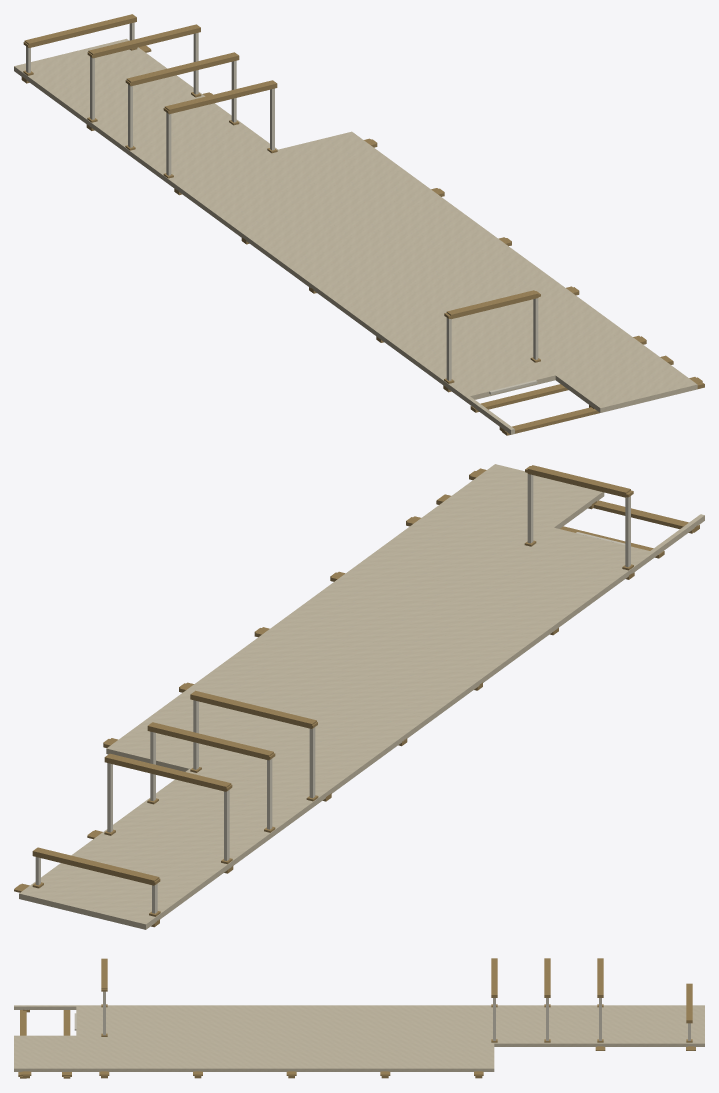
File: AST-TRM-G4-021_north_missing_only_receiving.glb
3 views of the same model, one above another, from view 1: azimuth 30°, elevation 25°; view 2: azimuth 150°, elevation 25°; view 3: azimuth 270°, elevation 25° (orthographic). The views are drawn at different scales.
Visible parts, largest first — view 1: N006_MissingOnlyFloor_1, N006_MissingOnlyFloor_0, N006_MissingOnlyFloor_3, N006_StairCrossbearer_2, N006_StairCrossbearer_0, N006_StairCrossbearer_1, N006_StairCrossbearer_3, N006_LiftLandingCrossbearer, N006_LiftPitUnderbearer_1, N006_LiftPitUnderbearer_0; view 2: N006_MissingOnlyFloor_1, N006_MissingOnlyFloor_0, N006_MissingOnlyFloor_3, N006_StairCrossbearer_0, N006_StairCrossbearer_1, N006_StairCrossbearer_2, N006_StairCrossbearer_3, N006_LiftLandingCrossbearer, N006_LiftPitUnderbearer_1; view 3: N006_MissingOnlyFloor_1, N006_MissingOnlyFloor_0, N006_MissingOnlyFloor_3, N006_MissingOnlyFloor_2, N006_StairCrossbearer_0, N006_StairCrossbearer_1, N006_StairCrossbearer_2, N006_StairCrossbearer_3, N006_LiftPitUnderbearer_0, N006_LiftLandingCrossbearer.
Part boxes in pixels (box(x1,y1,x2,y2)): N006_MissingOnlyFloor_1: box(165, 131, 652, 401); N006_MissingOnlyFloor_0: box(14, 38, 277, 181); N006_MissingOnlyFloor_3: box(555, 351, 697, 412); N006_StairCrossbearer_2: box(126, 52, 239, 86); N006_StairCrossbearer_0: box(24, 14, 136, 47); N006_StairCrossbearer_1: box(88, 24, 200, 58); N006_StairCrossbearer_3: box(164, 80, 277, 114); N006_LiftLandingCrossbearer: box(446, 290, 538, 319); N006_LiftPitUnderbearer_1: box(502, 384, 704, 435); N006_LiftPitUnderbearer_0: box(470, 361, 673, 412); N006_MissingOnlyFloor_1: box(106, 501, 654, 804); N006_MissingOnlyFloor_0: box(19, 769, 316, 929); N006_MissingOnlyFloor_3: box(445, 464, 604, 528); N006_StairCrossbearer_0: box(32, 847, 159, 885); N006_StairCrossbearer_1: box(104, 753, 231, 791); N006_StairCrossbearer_2: box(147, 722, 273, 760); N006_StairCrossbearer_3: box(190, 690, 316, 728); N006_LiftLandingCrossbearer: box(527, 465, 630, 497); N006_LiftPitUnderbearer_1: box(593, 500, 699, 532); N006_MissingOnlyFloor_1: box(76, 1005, 494, 1071); N006_MissingOnlyFloor_0: box(494, 1005, 704, 1046); N006_MissingOnlyFloor_3: box(14, 1035, 76, 1071); N006_MissingOnlyFloor_2: box(14, 1005, 76, 1009); N006_StairCrossbearer_0: box(686, 983, 692, 1023); N006_StairCrossbearer_1: box(597, 958, 603, 997); N006_StairCrossbearer_2: box(544, 958, 550, 997); N006_StairCrossbearer_3: box(491, 958, 497, 997); N006_LiftPitUnderbearer_0: box(63, 1010, 70, 1078); N006_LiftLandingCrossbearer: box(101, 958, 107, 989).
Size of the model in its own units: 10.2 by 3.81 by 44.3.
Materials: 3 (3 with a texture image).
